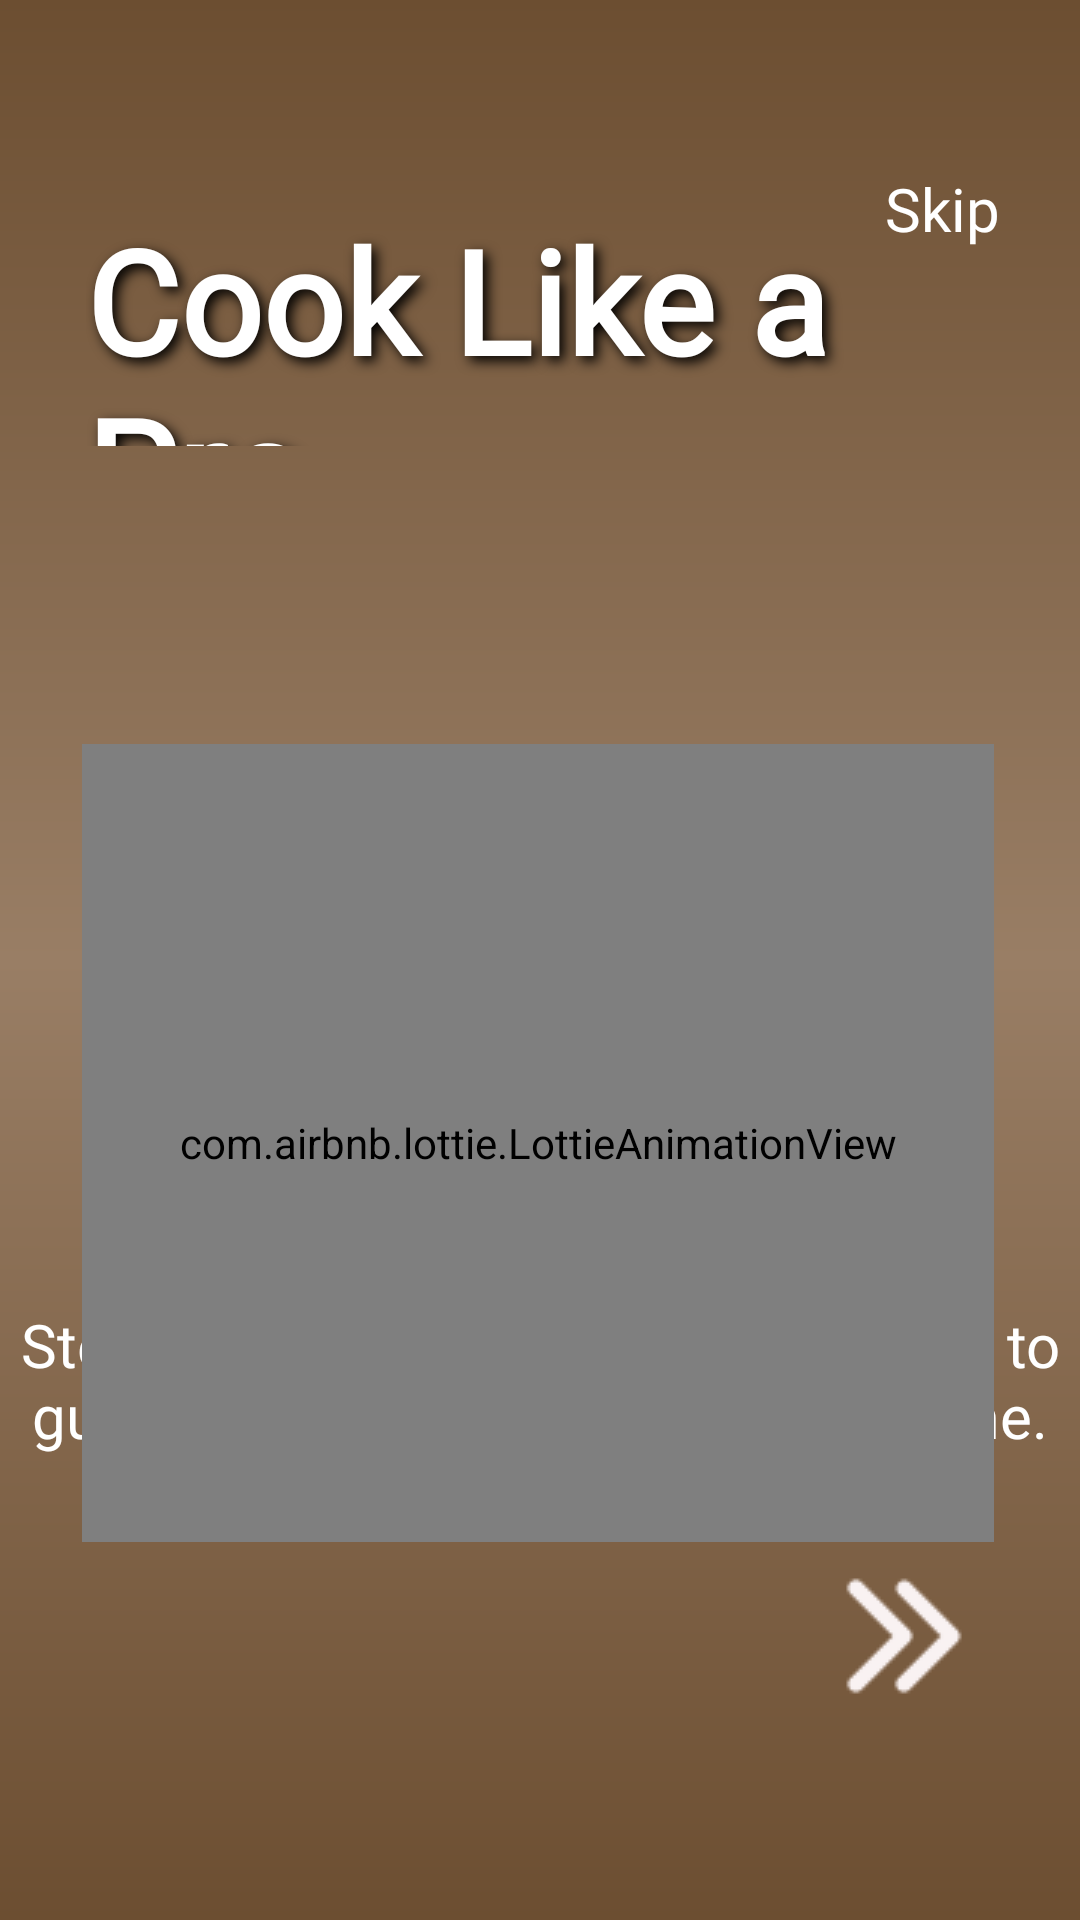

Point at icon controls on the screen. Image size 1080x1920, points as point (x, y).
Go to The Next Page: point (904, 1636)
